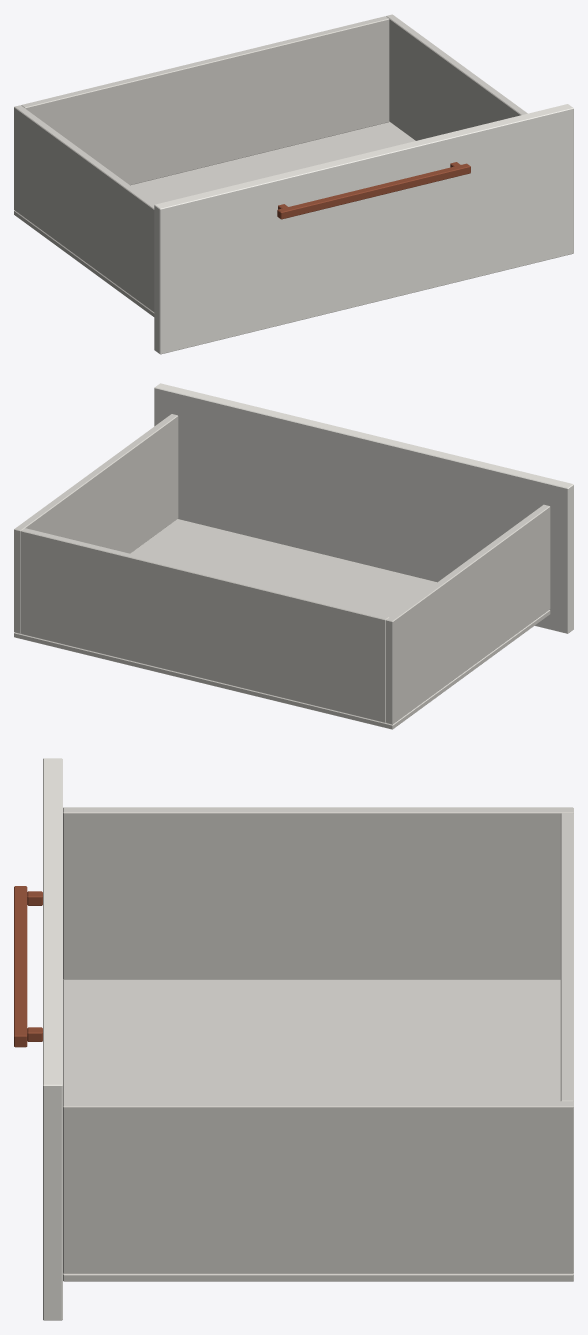
Rendered from kitchen_run_cabinets_long_b2_middle_drawer.glb.
3 views of the same model, one above another, from view 1: azimuth 30°, elevation 25°; view 2: azimuth 150°, elevation 25°; view 3: azimuth 270°, elevation 25° (orthographic). The views are drawn at different scales.
Visible parts, largest first — view 1: kitchen_run_cabinets_long_b2_middle_drawer; view 2: kitchen_run_cabinets_long_b2_middle_drawer; view 3: kitchen_run_cabinets_long_b2_middle_drawer.
Part boxes in pixels (x1,y1,x2,y2): kitchen_run_cabinets_long_b2_middle_drawer: (14, 14, 573, 354); kitchen_run_cabinets_long_b2_middle_drawer: (14, 383, 573, 729); kitchen_run_cabinets_long_b2_middle_drawer: (14, 758, 573, 1320).
Bounding box in the file's own units: 0.697 × 0.2346 × 0.504.
